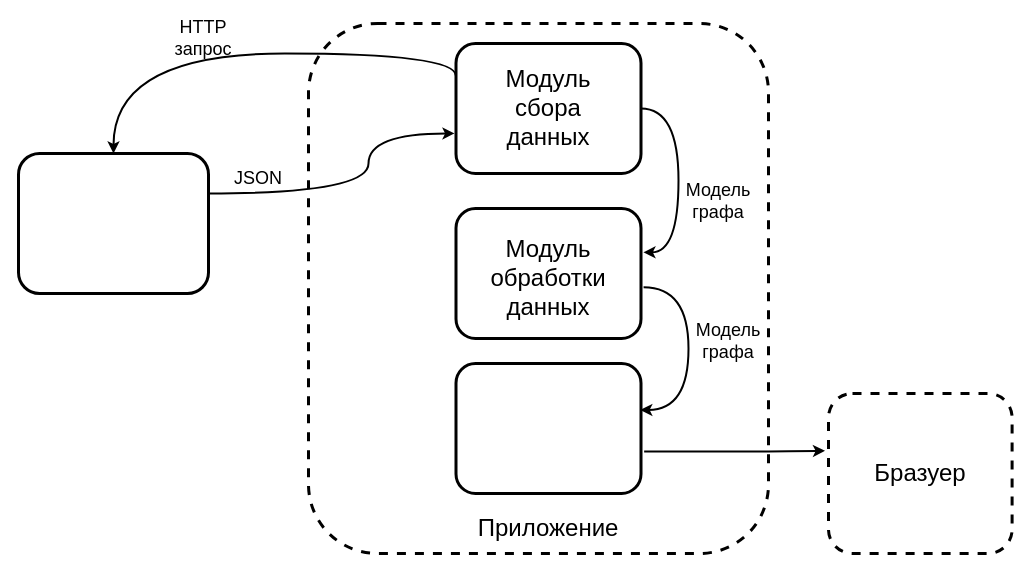
Image size: 1031x572. Some labels were removed from this diagram. The centre of each missing label's shape, as x and y in pixels:
"Модуль визуализации" goes at (548,428).
"Сервер социальной сети" goes at (113,223).
